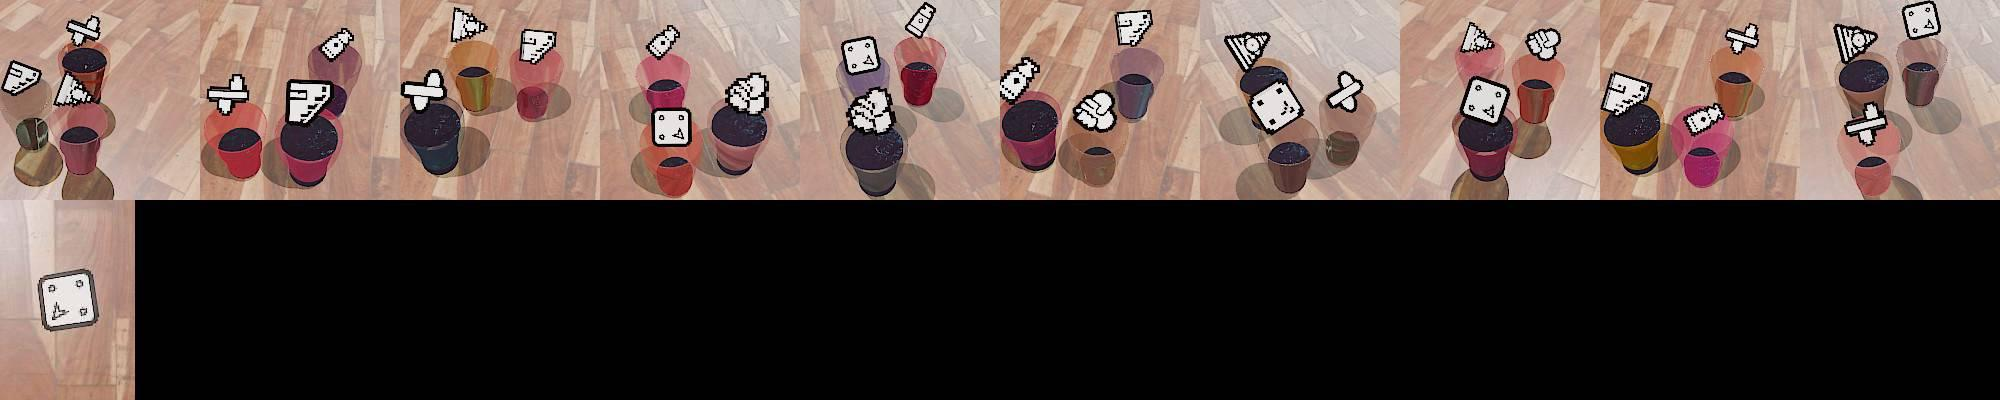icon: (36, 268, 99, 332), (1247, 78, 1305, 135), (1458, 76, 1511, 126), (1601, 70, 1653, 117), (847, 85, 895, 135), (286, 79, 334, 125), (401, 68, 448, 113), (724, 71, 769, 116), (1843, 102, 1889, 145), (1071, 89, 1117, 132), (205, 73, 251, 116), (1223, 31, 1270, 73), (999, 56, 1041, 102), (1833, 23, 1878, 65), (1327, 69, 1365, 113), (652, 107, 693, 146), (1902, 1, 1941, 41), (842, 36, 881, 75), (1, 60, 43, 97), (1115, 9, 1153, 48), (52, 71, 94, 107), (1682, 102, 1726, 136), (450, 6, 489, 43), (519, 28, 557, 65), (1526, 27, 1562, 61), (647, 24, 681, 60), (904, 1, 936, 39), (319, 27, 353, 61), (1459, 20, 1494, 55), (65, 15, 101, 47), (1723, 23, 1759, 55)
